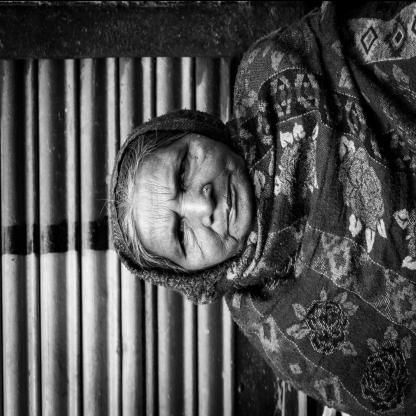Eye: (177, 148, 193, 187), (177, 216, 189, 256)
Mouth: (223, 174, 238, 235)
Nose: (181, 179, 215, 226)
